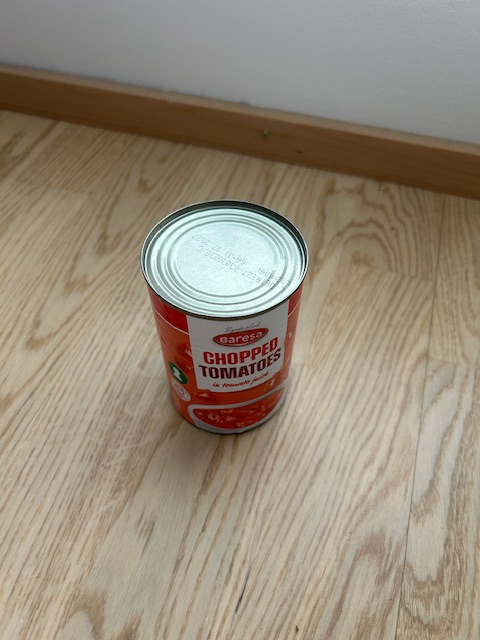Konservburk: (140, 199, 309, 436)
